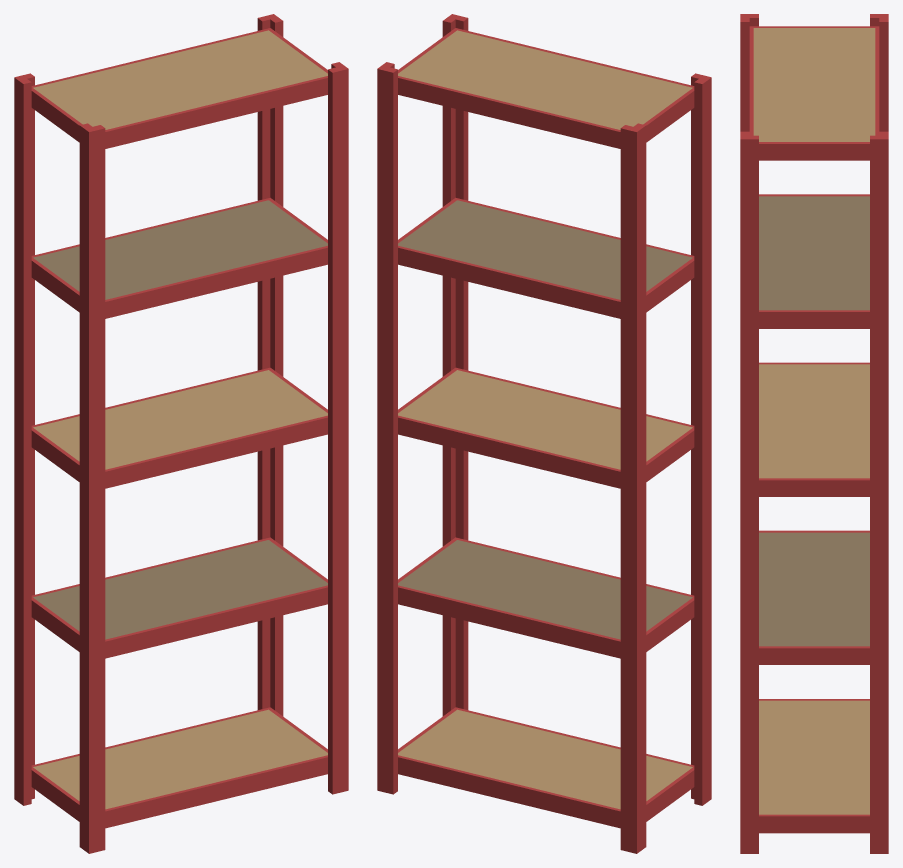
File: Stand4.fbx
3 views of the same model, side by side, from view 1: azimuth 30°, elevation 25°; view 2: azimuth 150°, elevation 25°; view 3: azimuth 270°, elevation 25° (orthographic).
Visible parts, largest first — view 1: isl_Shelf_07_Def.obj; view 2: isl_Shelf_07_Def.obj; view 3: isl_Shelf_07_Def.obj.
Part boxes in pixels (<box>): isl_Shelf_07_Def.obj: <box>14,14,348,853</box>; isl_Shelf_07_Def.obj: <box>377,14,711,853</box>; isl_Shelf_07_Def.obj: <box>740,14,888,853</box>.
Bounding box in the file's own units: 80 × 213 × 40.
